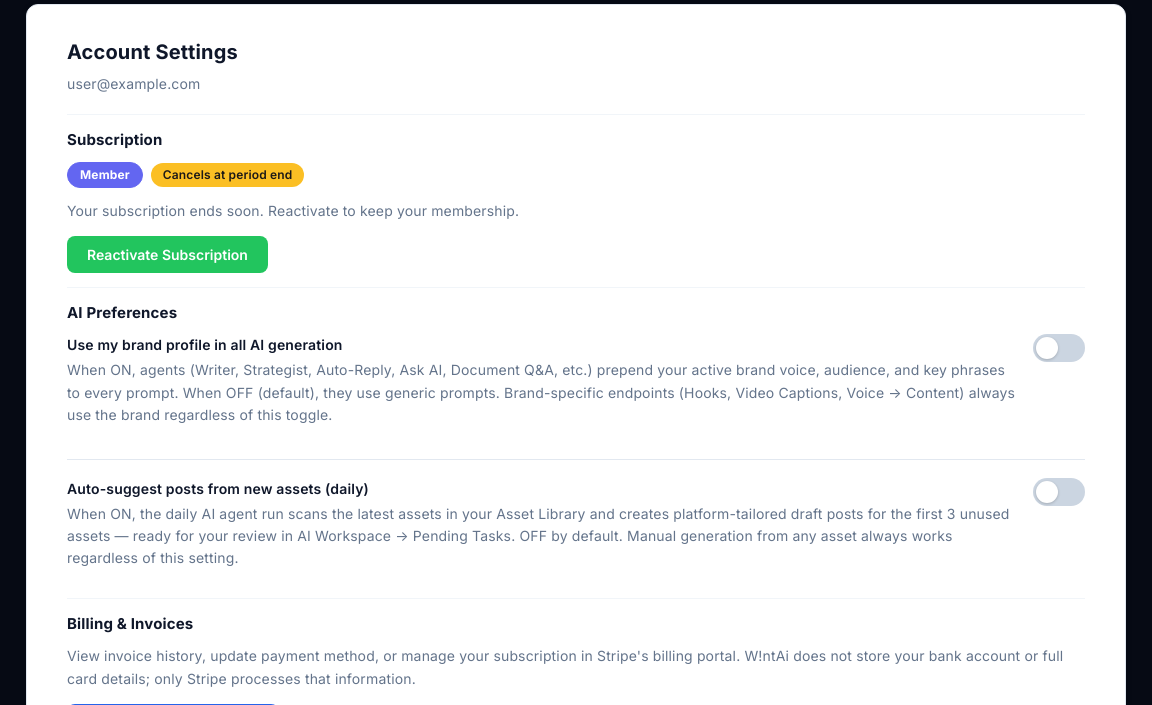
Test: AccountSettings › shows success banner after reactivation
The image size is (1152, 705).
Click the button "Reactivate Subscription".
click(167, 254)  # box [67,236,268,273]
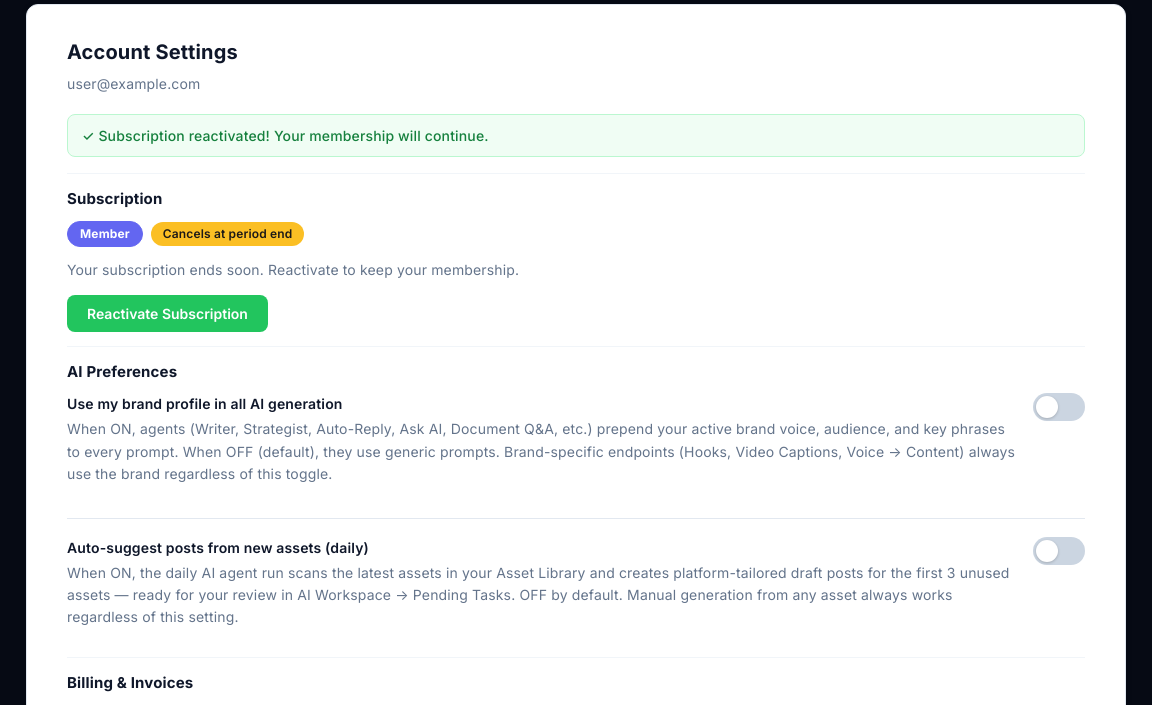
expect the text "✓ Subscription reactivated! Your membership will continue." is shown: met, box [67,114,1085,157]
